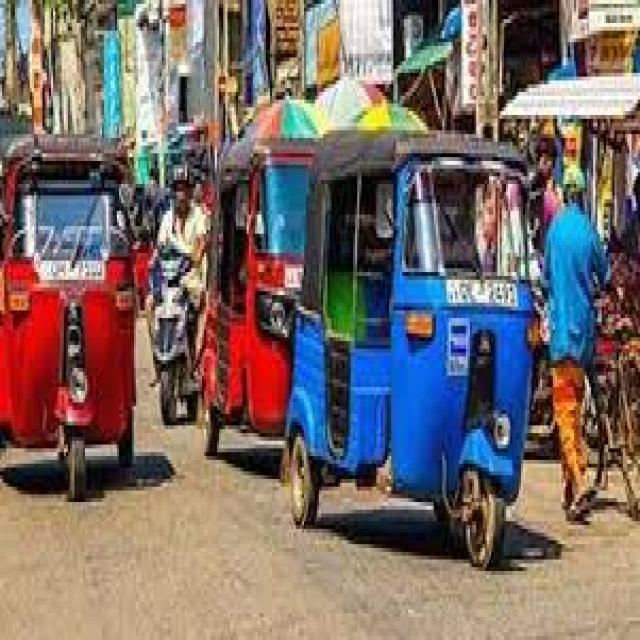bicycle: (585, 307, 638, 517)
motorcycle: (151, 241, 196, 425)
person: (544, 126, 608, 521), (157, 180, 208, 310)
three wheeler: (285, 134, 529, 567), (0, 138, 134, 498), (200, 100, 319, 452)
